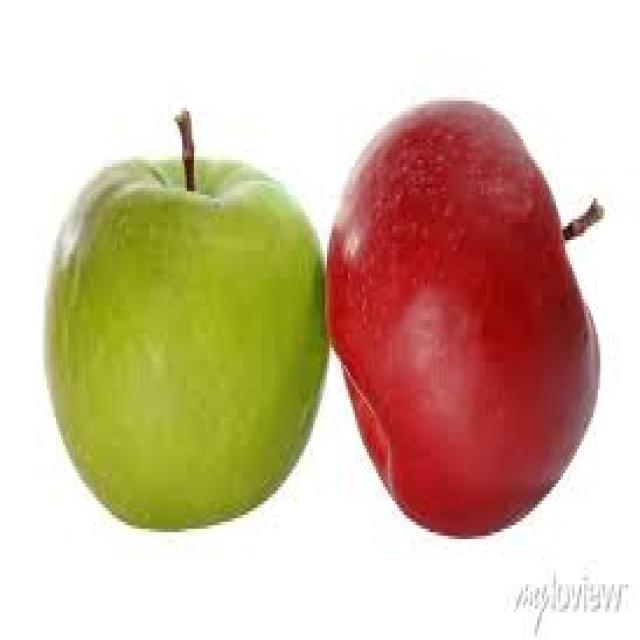non_orange: (300, 46, 618, 552), (28, 113, 373, 531)
